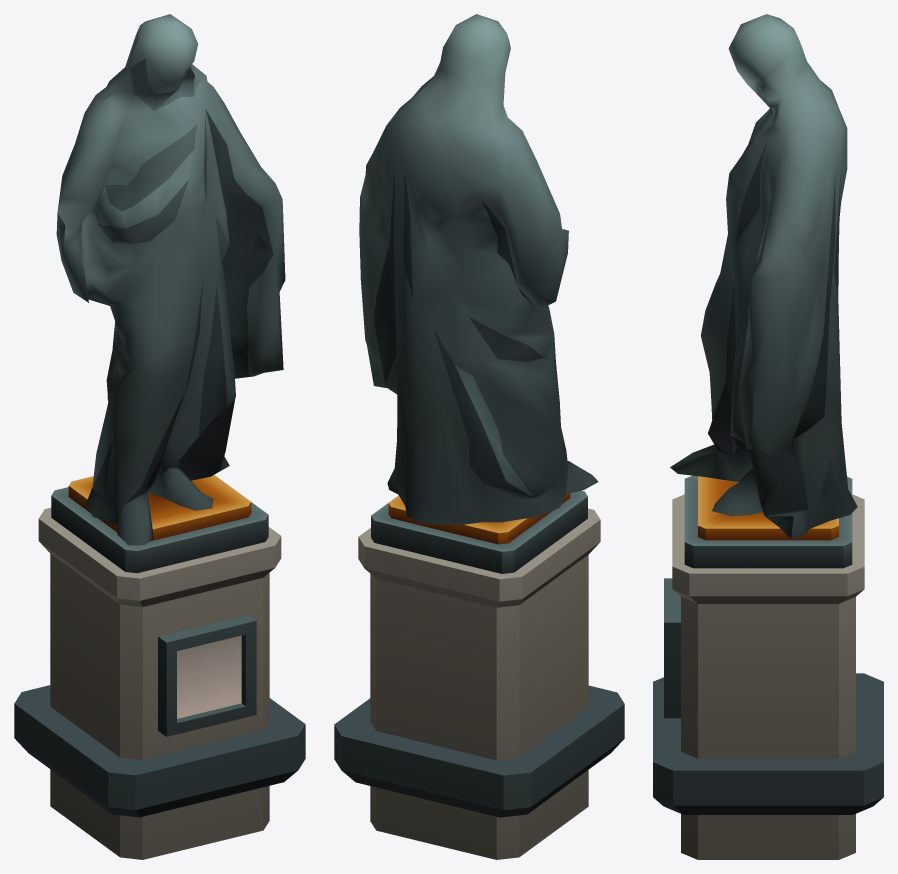
File: Statue_1B.fbx
The picture shows the model from 3 angles, left to right: view 1: azimuth 30°, elevation 25°; view 2: azimuth 150°, elevation 25°; view 3: azimuth 270°, elevation 25°; orthographic projection.
Parts seen in each view (by area): view 1: Statue_1B; view 2: Statue_1B; view 3: Statue_1B.
Part boxes in pixels (bbox=[...]): Statue_1B: bbox=[14, 14, 305, 859]; Statue_1B: bbox=[334, 14, 624, 859]; Statue_1B: bbox=[653, 14, 883, 859].
Bounding box in the file's own units: 307 × 1076 × 279.
